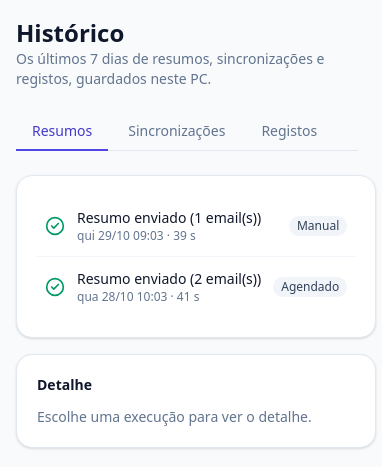
Test case: HistoryPage › separa as sincronizações e mostra o erro de uma que falhou
The image size is (382, 467).
Expected: the heading "Histórico" is shown, [16,16,124,49]
Click the tab "Sincronizações" at (177, 132), box [112,113,241,151]
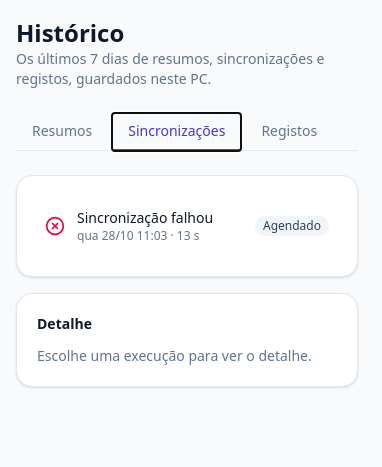
Click the button "Sincronização falhou qua 28/10 11:03 · 13 s Agendado" at (187, 226), box [37,196,337,256]
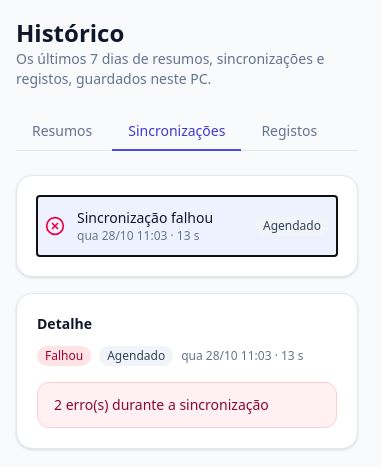
Result: the icon named "Falhou" is shown at [45,216,65,236]
Result: the text "2 erro(s) durante a sincronização" is shown at [37,382,337,428]
